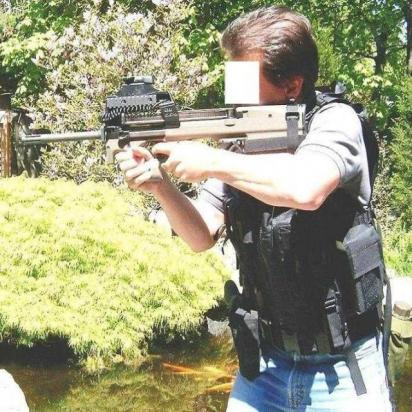Gun: (20, 73, 309, 185)
